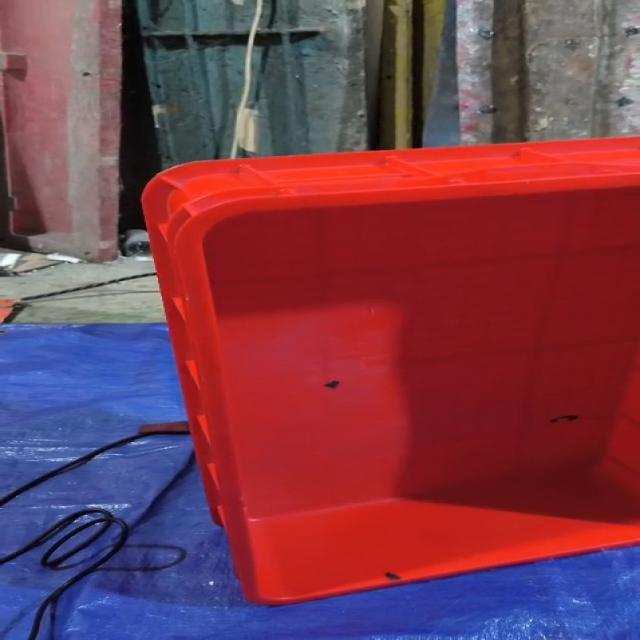red plastic box: (142, 135, 639, 606)
